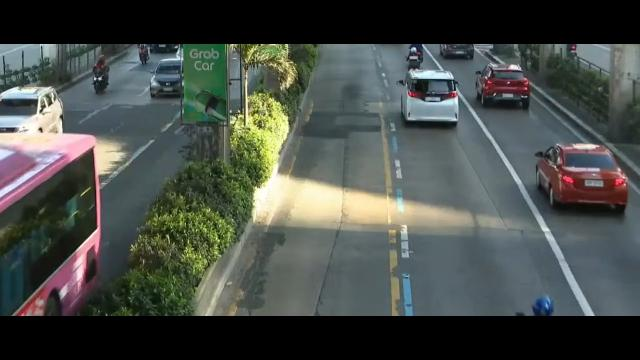bus: (0, 133, 99, 316)
car: (535, 141, 629, 213), (0, 86, 62, 136), (475, 63, 528, 109), (151, 59, 193, 99)
motorcycle: (91, 54, 110, 95), (404, 46, 422, 78), (137, 44, 150, 66)
van: (400, 71, 459, 125)
